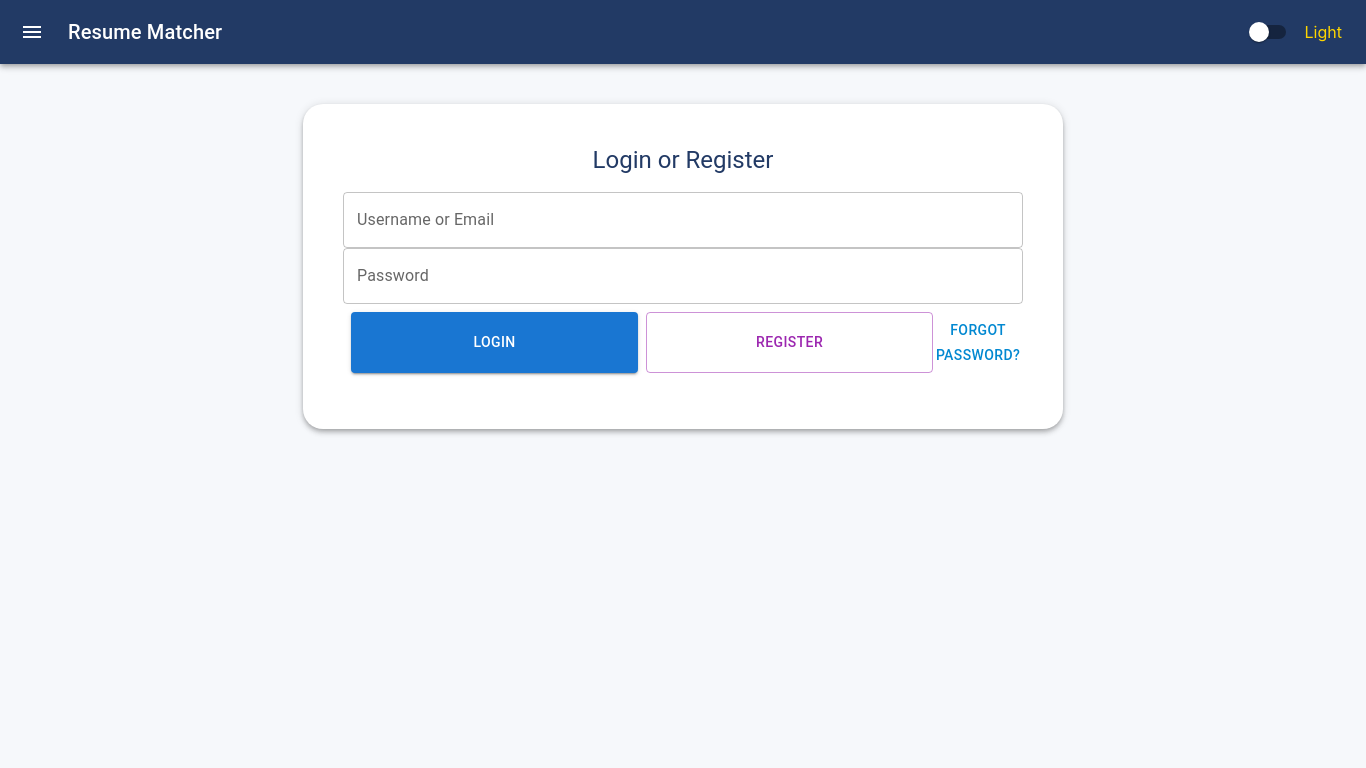
Test case: Resume Matcher App › renders Job Board heading after navigating to Jobs page
Note: Open the drawer menu
Click the button named "menu": {"x": 32, "y": 32} [12,12,52,52]
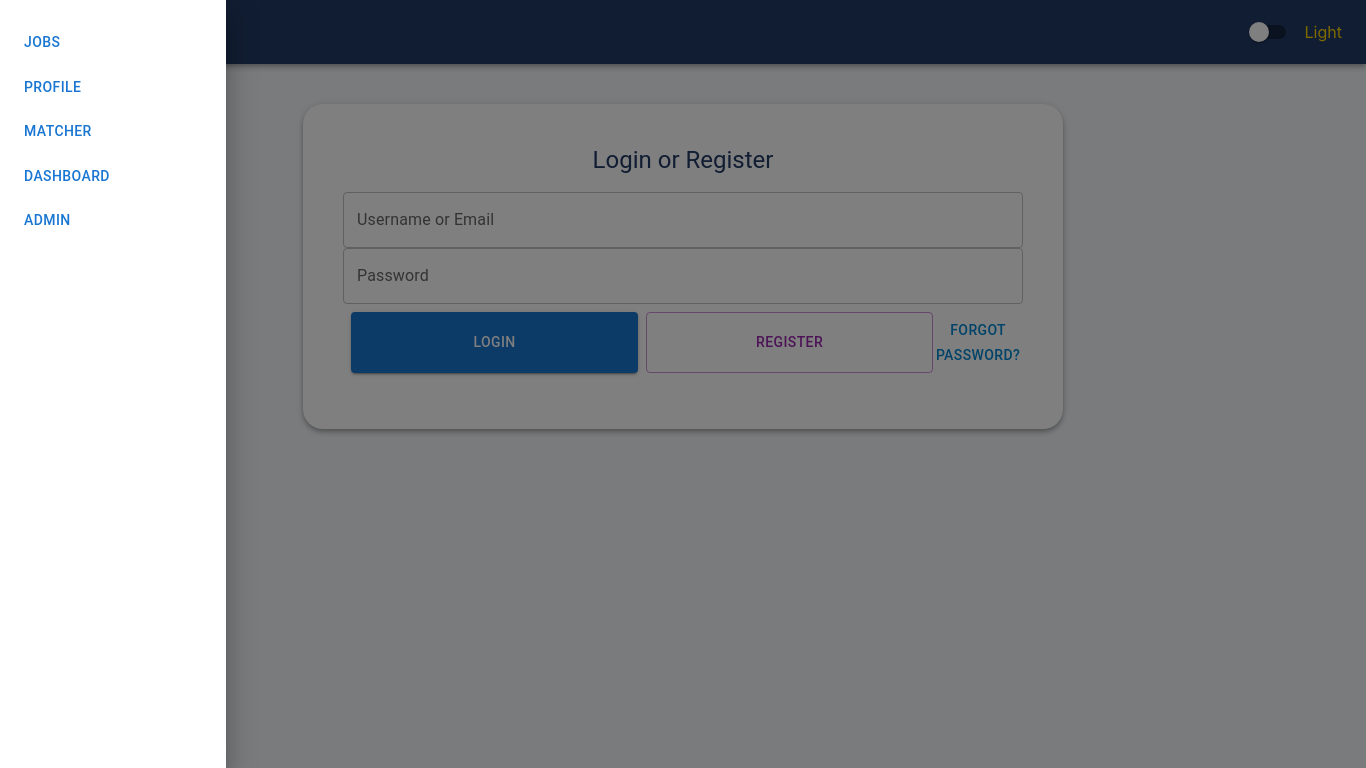
Note: Click "Jobs" button
Click the button "Jobs": {"x": 121, "y": 42} [16,24,226,60]
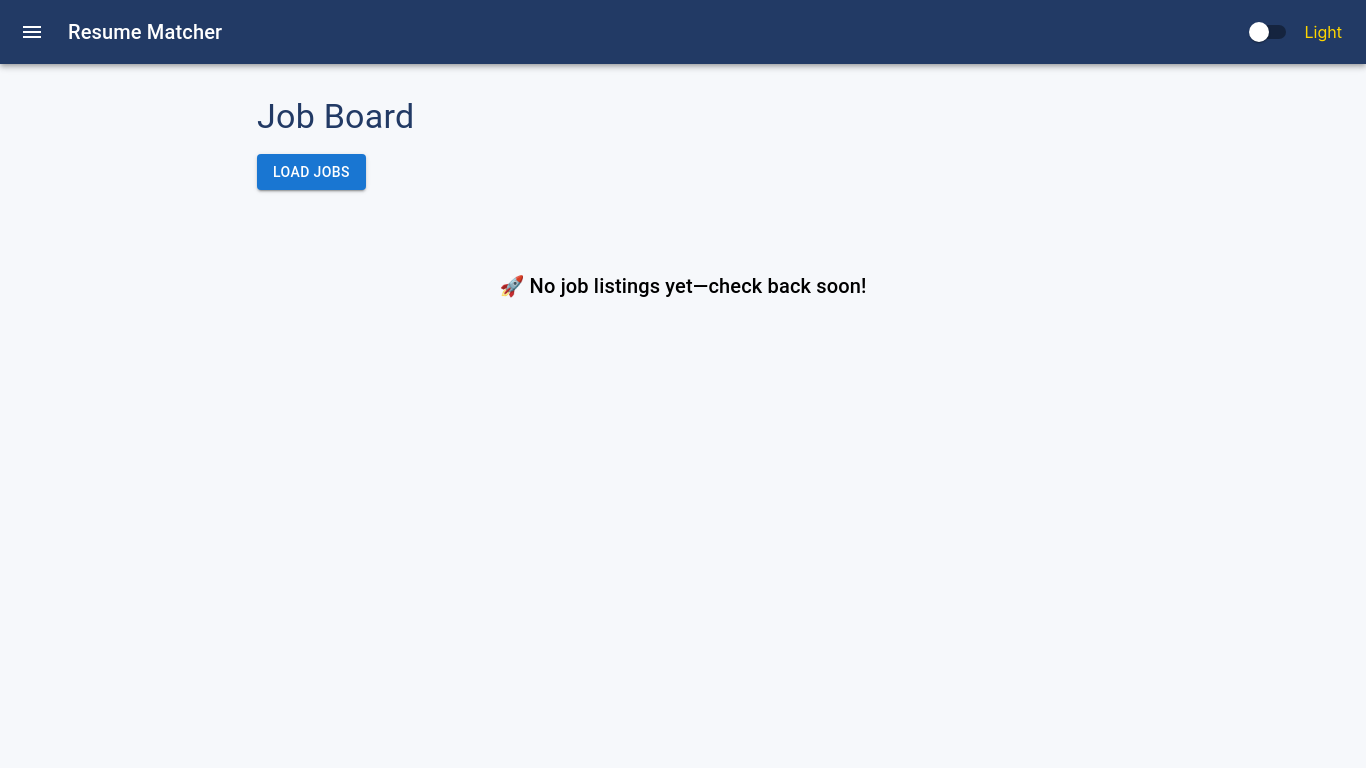
Check: the heading "Job Board" is shown, box [257,96,414,136]
